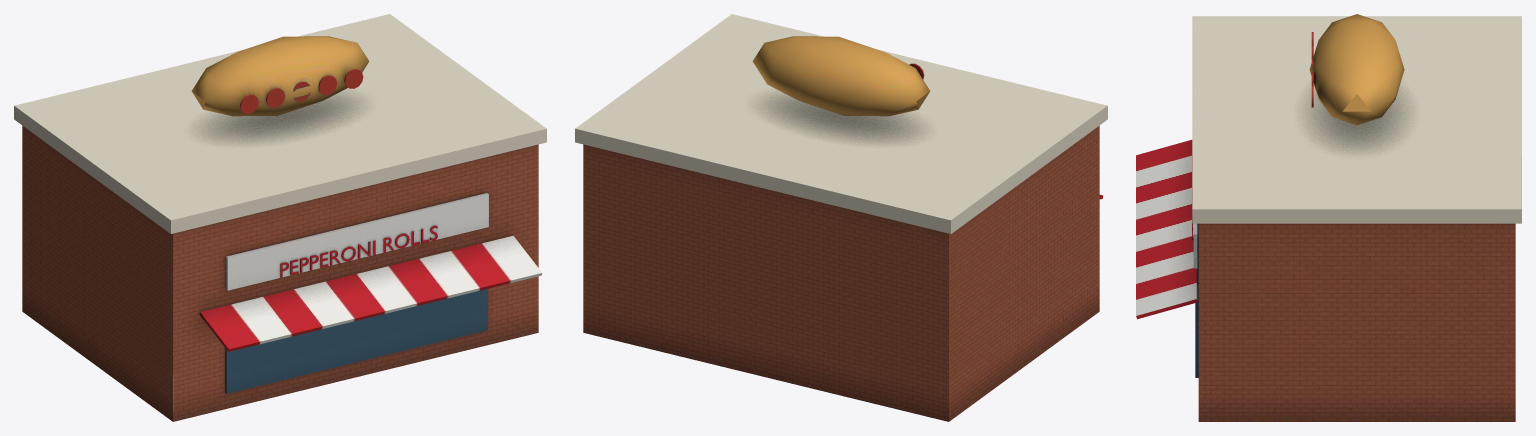
The model's file is panaderia_pepperoni.glb.
The picture shows the model from 3 angles, left to right: view 1: azimuth 30°, elevation 25°; view 2: azimuth 150°, elevation 25°; view 3: azimuth 270°, elevation 25°; orthographic projection. The views are drawn at different scales.
Visible parts, largest first — view 1: panaderia_pepperoni; view 2: panaderia_pepperoni; view 3: panaderia_pepperoni.
Part boxes in pixels (bbox=[...]): panaderia_pepperoni: bbox=[14, 14, 546, 421]; panaderia_pepperoni: bbox=[575, 14, 1107, 421]; panaderia_pepperoni: bbox=[1136, 14, 1521, 421].
Bounding box in the file's own units: 14.4 × 10.2 × 12.17.
Materials: 1 (1 with a texture image).
